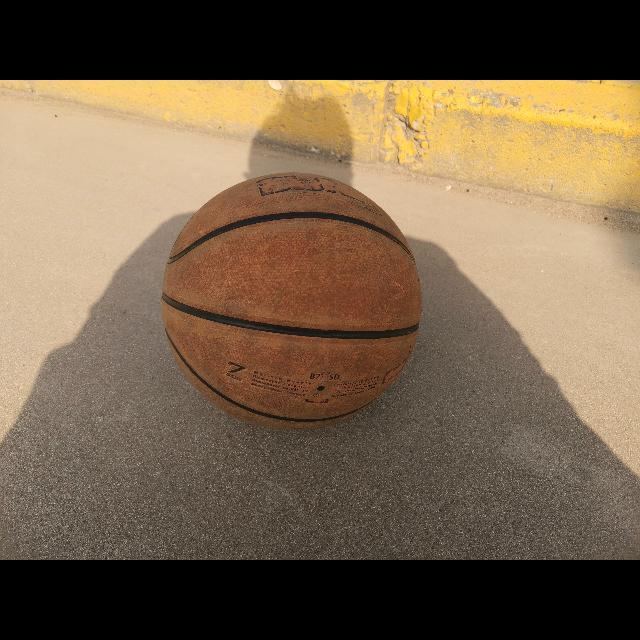basketball: (162, 174, 420, 430)
